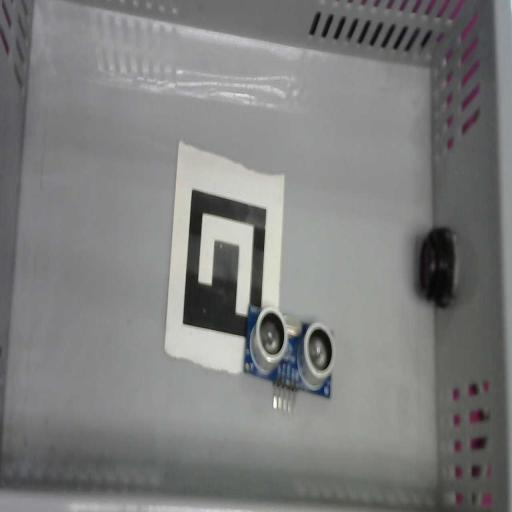QR: (163, 141, 285, 374)
ultrasonic_hc-sr04: (243, 304, 334, 414)
